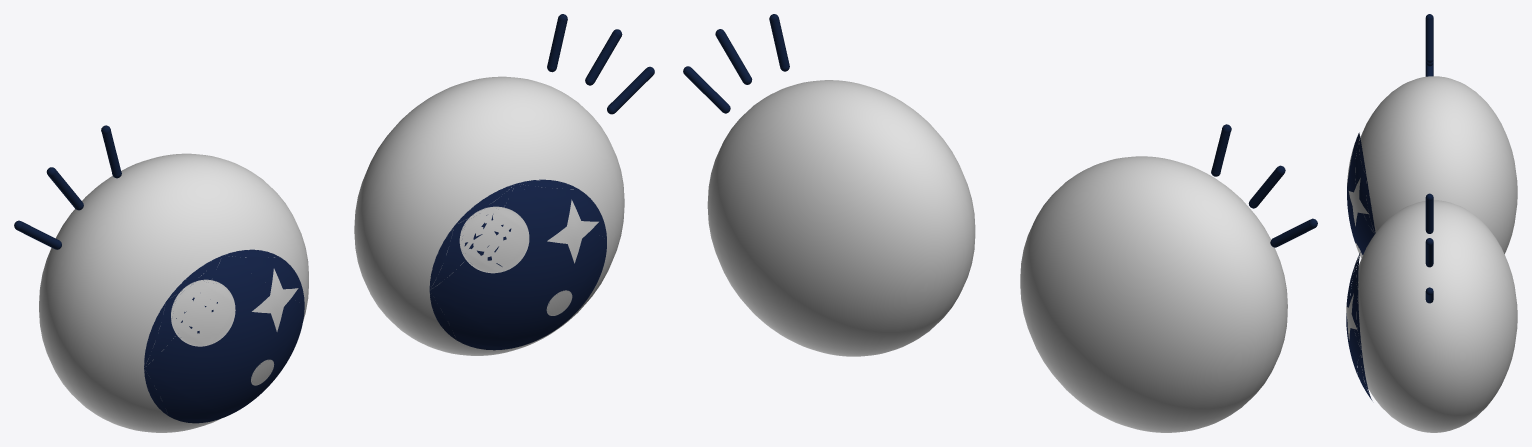
File: eyes-star.glb
3 views of the same model, side by side, from view 1: azimuth 30°, elevation 25°; view 2: azimuth 150°, elevation 25°; view 3: azimuth 270°, elevation 25° (orthographic). The views are drawn at different scales.
Parts seen in each view (by area): view 1: eyes_1_ball, eyes_7_ball, eyes_8_paint, eyes_2_paint, eyes_9_paint, eyes_3_paint, eyes_6_line, eyes_0_line, eyes_11_paint, eyes_5_paint; view 2: eyes_7_ball, eyes_1_ball, eyes_6_line, eyes_0_line; view 3: eyes_7_ball, eyes_1_ball, eyes_2_paint, eyes_8_paint, eyes_6_line, eyes_0_line, eyes_5_paint, eyes_11_paint.
Boxes of the visible parts, box(x1,y1,x2,y2) form: eyes_1_ball: box(39, 153, 308, 432); eyes_7_ball: box(354, 76, 624, 355); eyes_8_paint: box(429, 179, 606, 350); eyes_2_paint: box(144, 249, 304, 423); eyes_9_paint: box(459, 206, 529, 273); eyes_3_paint: box(171, 279, 235, 346); eyes_6_line: box(547, 14, 654, 114); eyes_0_line: box(14, 125, 121, 249); eyes_11_paint: box(547, 199, 598, 263); eyes_5_paint: box(252, 268, 298, 331); eyes_7_ball: box(707, 80, 975, 356); eyes_1_ball: box(1020, 156, 1287, 432); eyes_6_line: box(683, 14, 789, 113); eyes_0_line: box(1211, 124, 1317, 247); eyes_7_ball: box(1355, 200, 1517, 432); eyes_1_ball: box(1355, 76, 1517, 254); eyes_2_paint: box(1347, 132, 1375, 254); eyes_8_paint: box(1346, 251, 1372, 400); eyes_6_line: box(1425, 193, 1433, 303); eyes_0_line: box(1425, 14, 1433, 76); eyes_5_paint: box(1348, 178, 1368, 226); eyes_11_paint: box(1346, 293, 1357, 340).
Size of the model in its own units: 0.9408 by 0.4464 by 0.2713.
